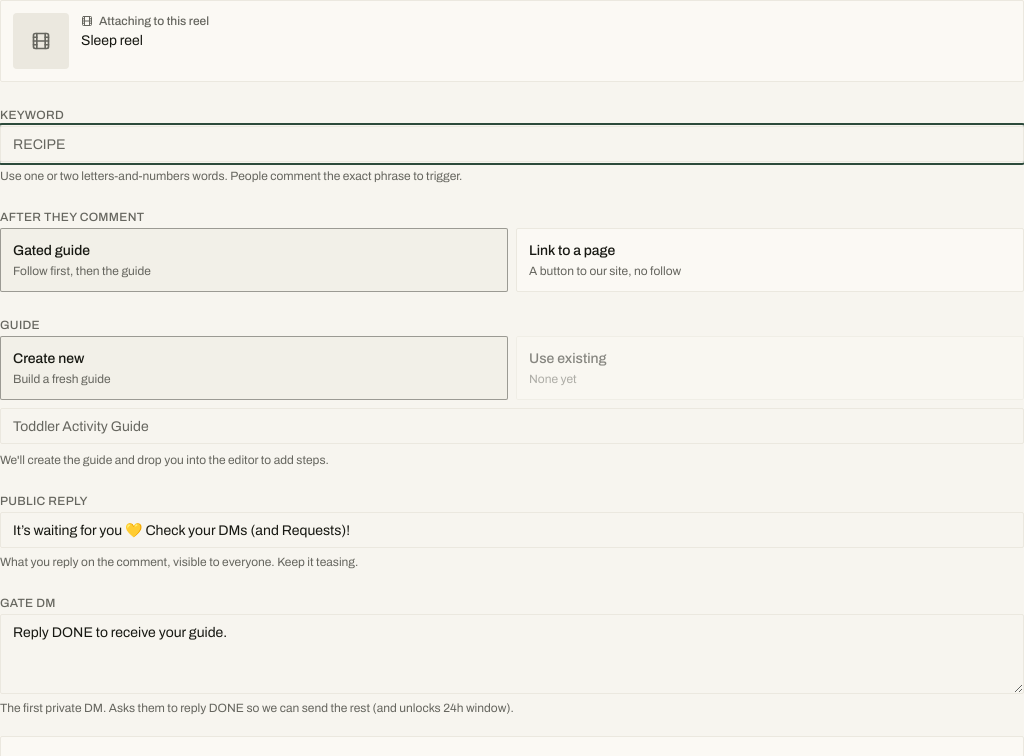
Scenario: KeywordForm link guides › shows the chosen link guide's address and button, with a way to edit it
Click the button "Link to a page A button to our site, no follow": (572, 250) [516,228,1023,292]
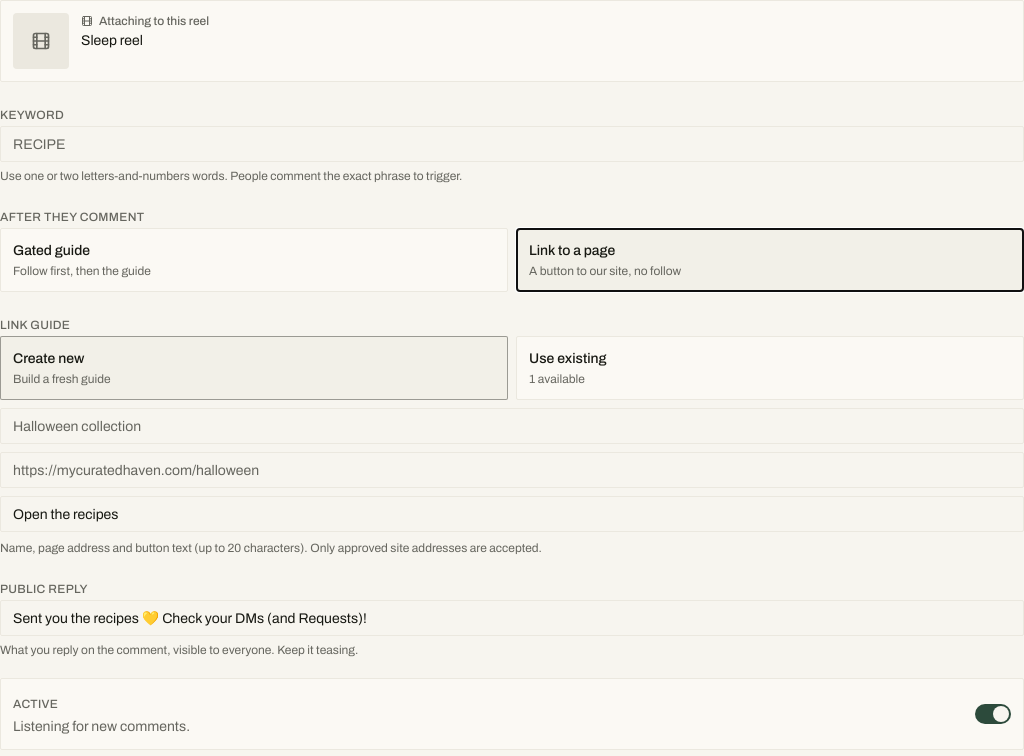
Click the button "Use existing 1 available": (568, 358) [516,336,1023,400]
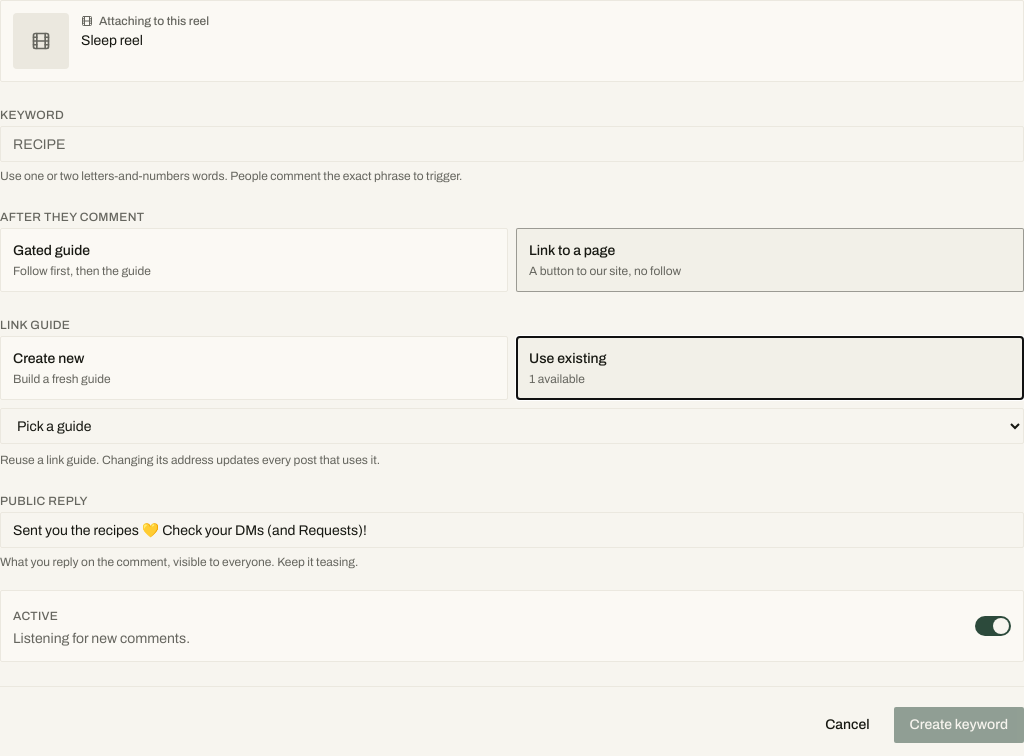
Select "Halloween collection" in the dropdown: (512, 426) [0,408,1023,444]
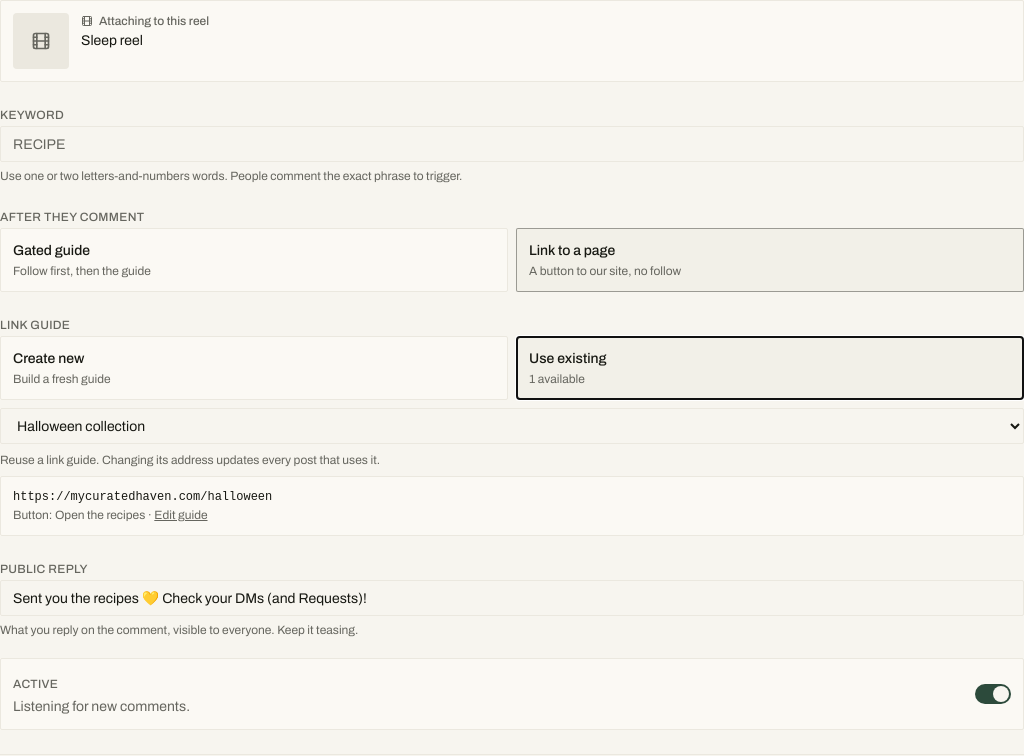
Now the text "https://mycuratedhaven.com/halloween" is shown, box [13,490,272,504]
Now the text "Button: Open the recipes · Edit guide" is shown, box [13,508,208,522]
